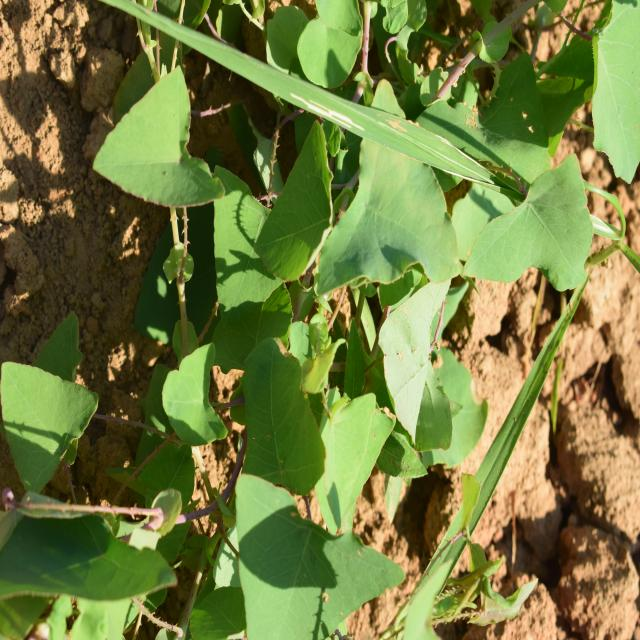Asiatic_Smartweed: (208, 342, 400, 640), (302, 77, 458, 303), (214, 102, 344, 305), (461, 148, 592, 304), (86, 65, 224, 212), (1, 329, 93, 498)
